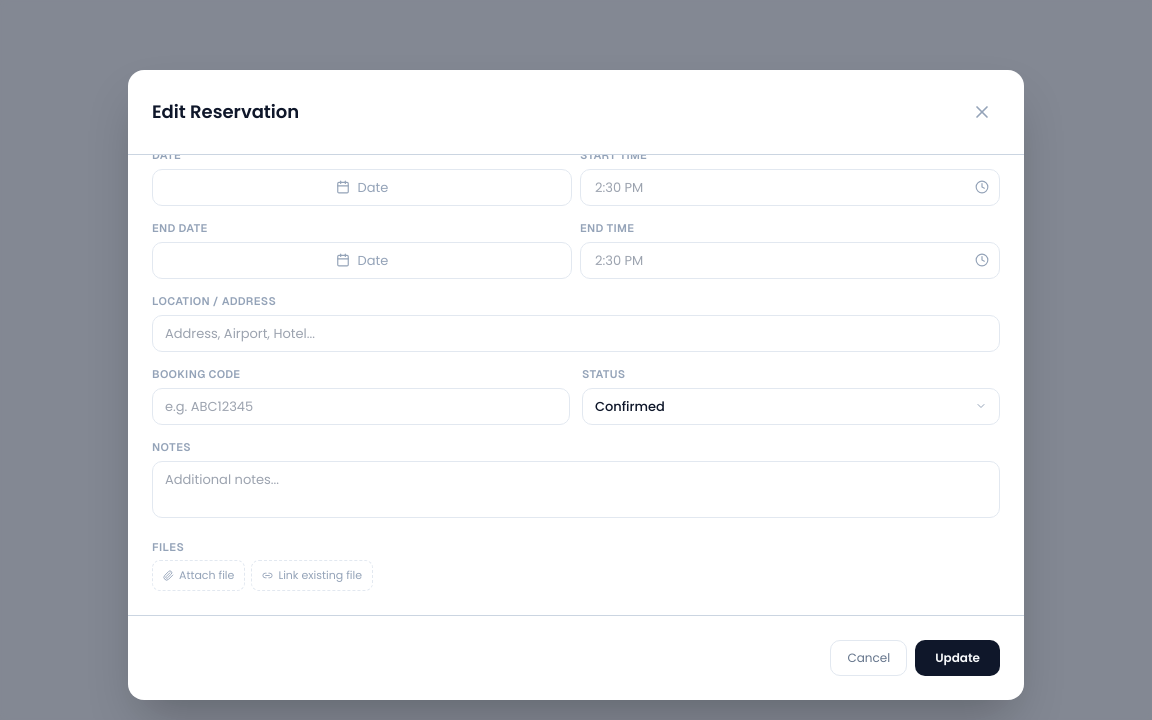
Scenario: ReservationModal › FE-PLANNER-RESMODAL-038: clicking "link existing file" shows file picker dropdown
(page scrolled)
Click the button "Link existing file": (312, 575) top-left (251, 560), bottom-right (373, 590)
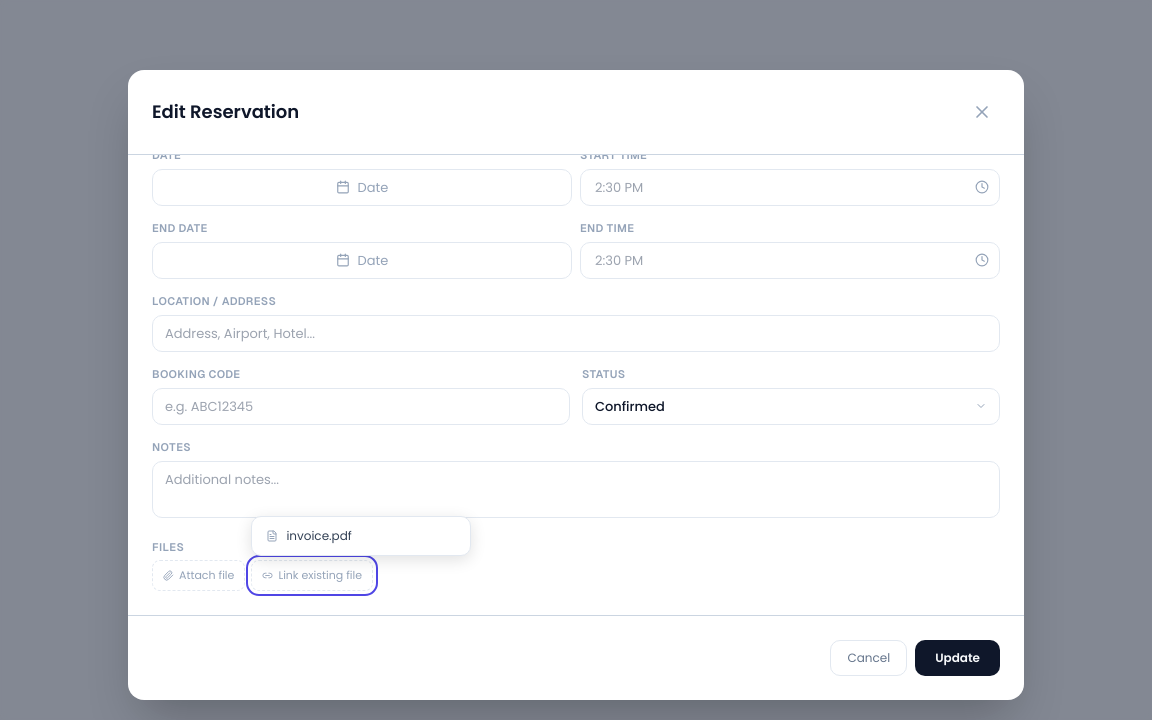
Expected: the text "invoice.pdf" is shown, top-left (286, 527), bottom-right (352, 545)
